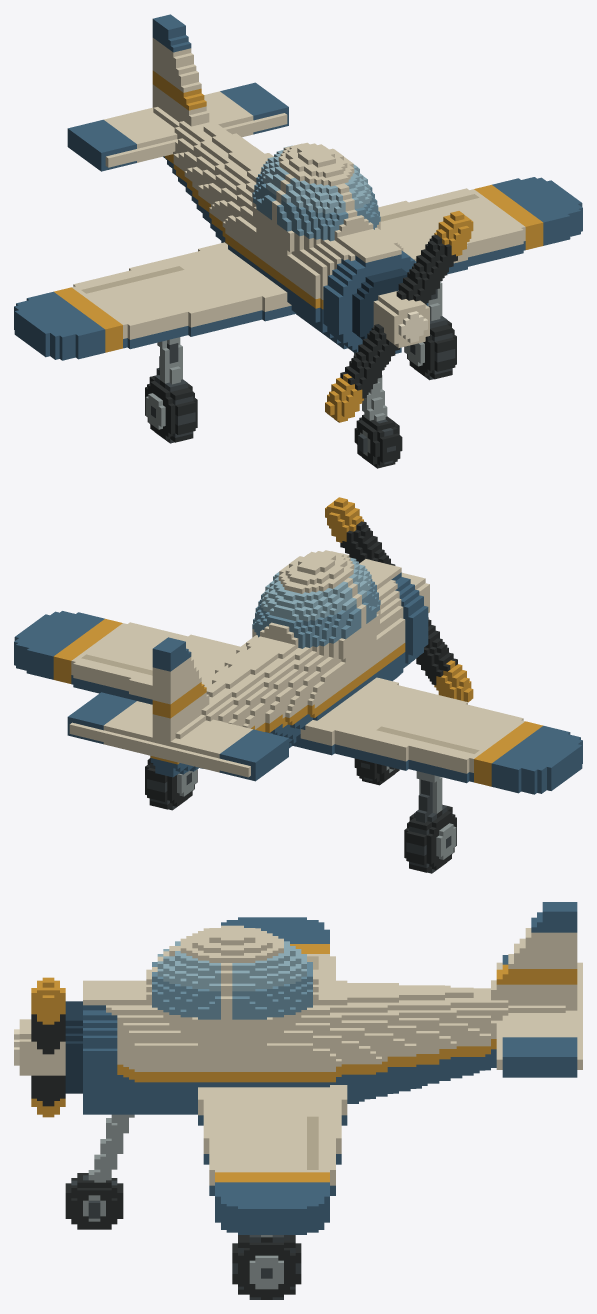
File: propeller_plane.glb
3 views of the same model, one above another, from view 1: azimuth 30°, elevation 25°; view 2: azimuth 150°, elevation 25°; view 3: azimuth 270°, elevation 25° (orthographic). The views are drawn at different scales.
Visible parts, largest first — view 1: propeller_plane; view 2: propeller_plane; view 3: propeller_plane.
Boxes of the visible parts, box(x1,y1,x2,y2) form: propeller_plane: box(14, 14, 582, 468); propeller_plane: box(14, 497, 582, 873); propeller_plane: box(14, 902, 582, 1299).
Bounding box in the file's own units: 6 × 3.05 × 4.95.
